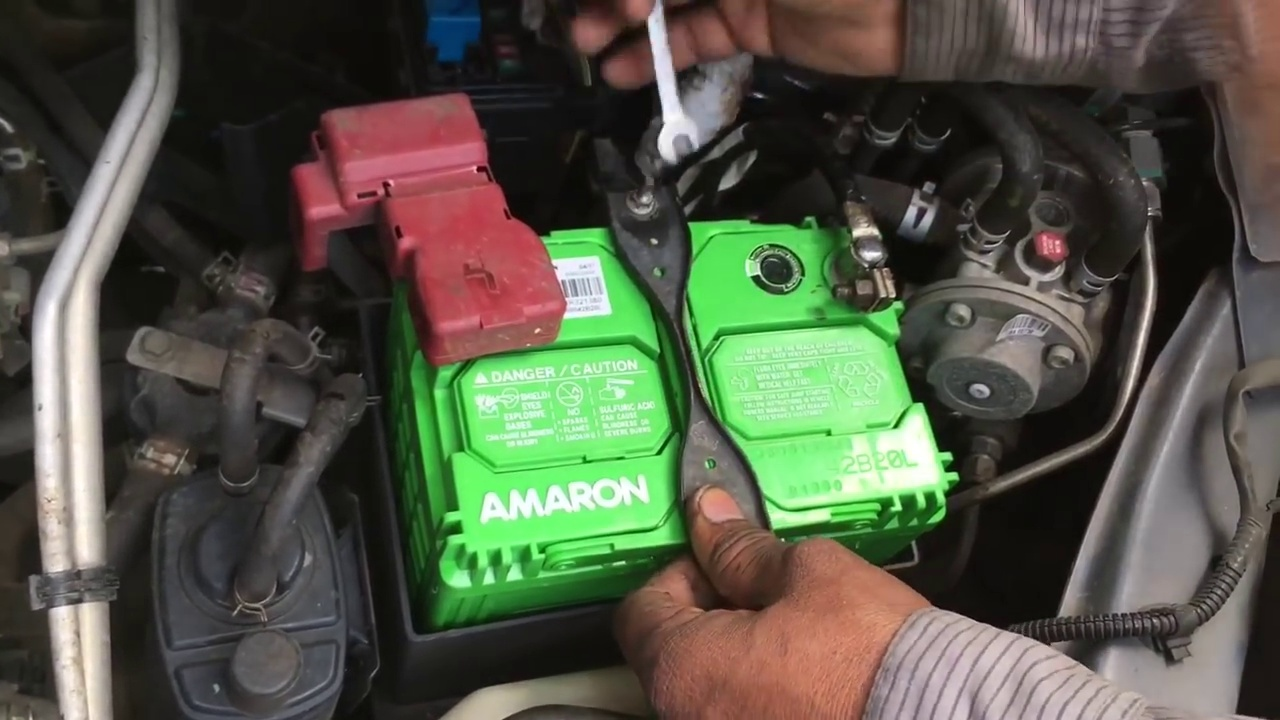battery: (360, 164, 924, 574)
neg_connected: (806, 160, 910, 361)
pos_connected: (273, 111, 575, 359)
